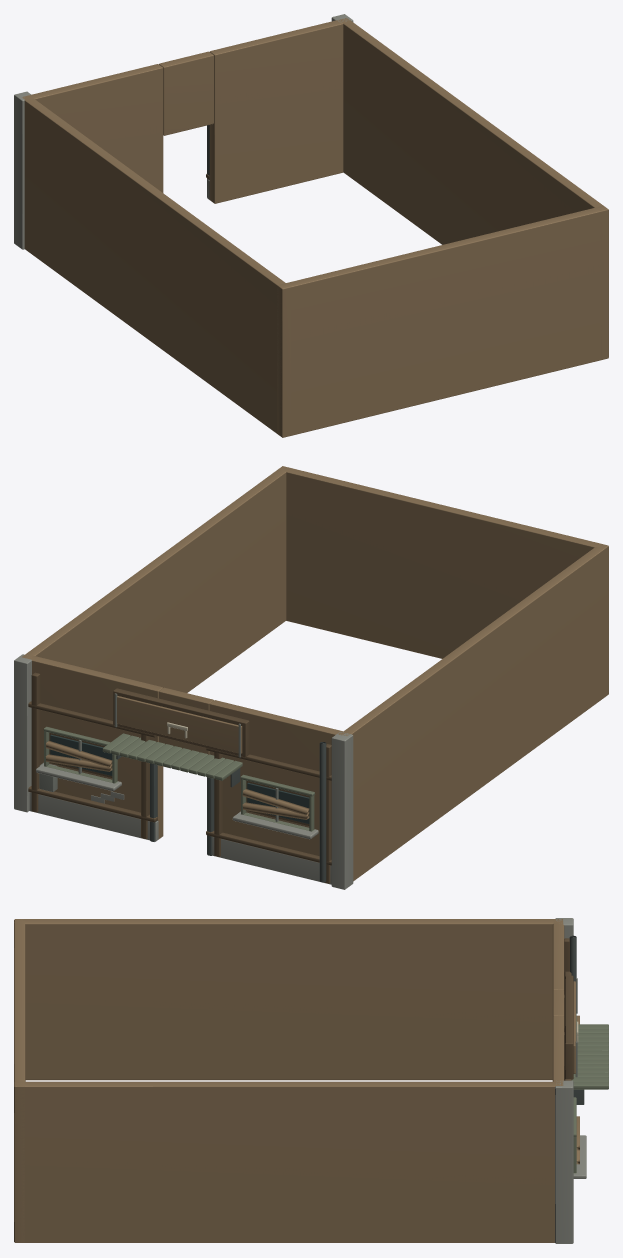
File: Furniture_Shell.fbx
3 renders of one model, top to bottom at view 1: azimuth 30°, elevation 25°; view 2: azimuth 150°, elevation 25°; view 3: azimuth 270°, elevation 25°, orthographic. The views are drawn at different scales.
Visible parts, largest first — view 1: Furniture_Shell; view 2: Furniture_Shell; view 3: Furniture_Shell.
Part boxes in pixels (bbox=[...]): Furniture_Shell: bbox=[14, 14, 608, 437]; Furniture_Shell: bbox=[14, 466, 608, 889]; Furniture_Shell: bbox=[14, 918, 608, 1243].
Size of the model in its own units: 1044 by 450 by 1546.
